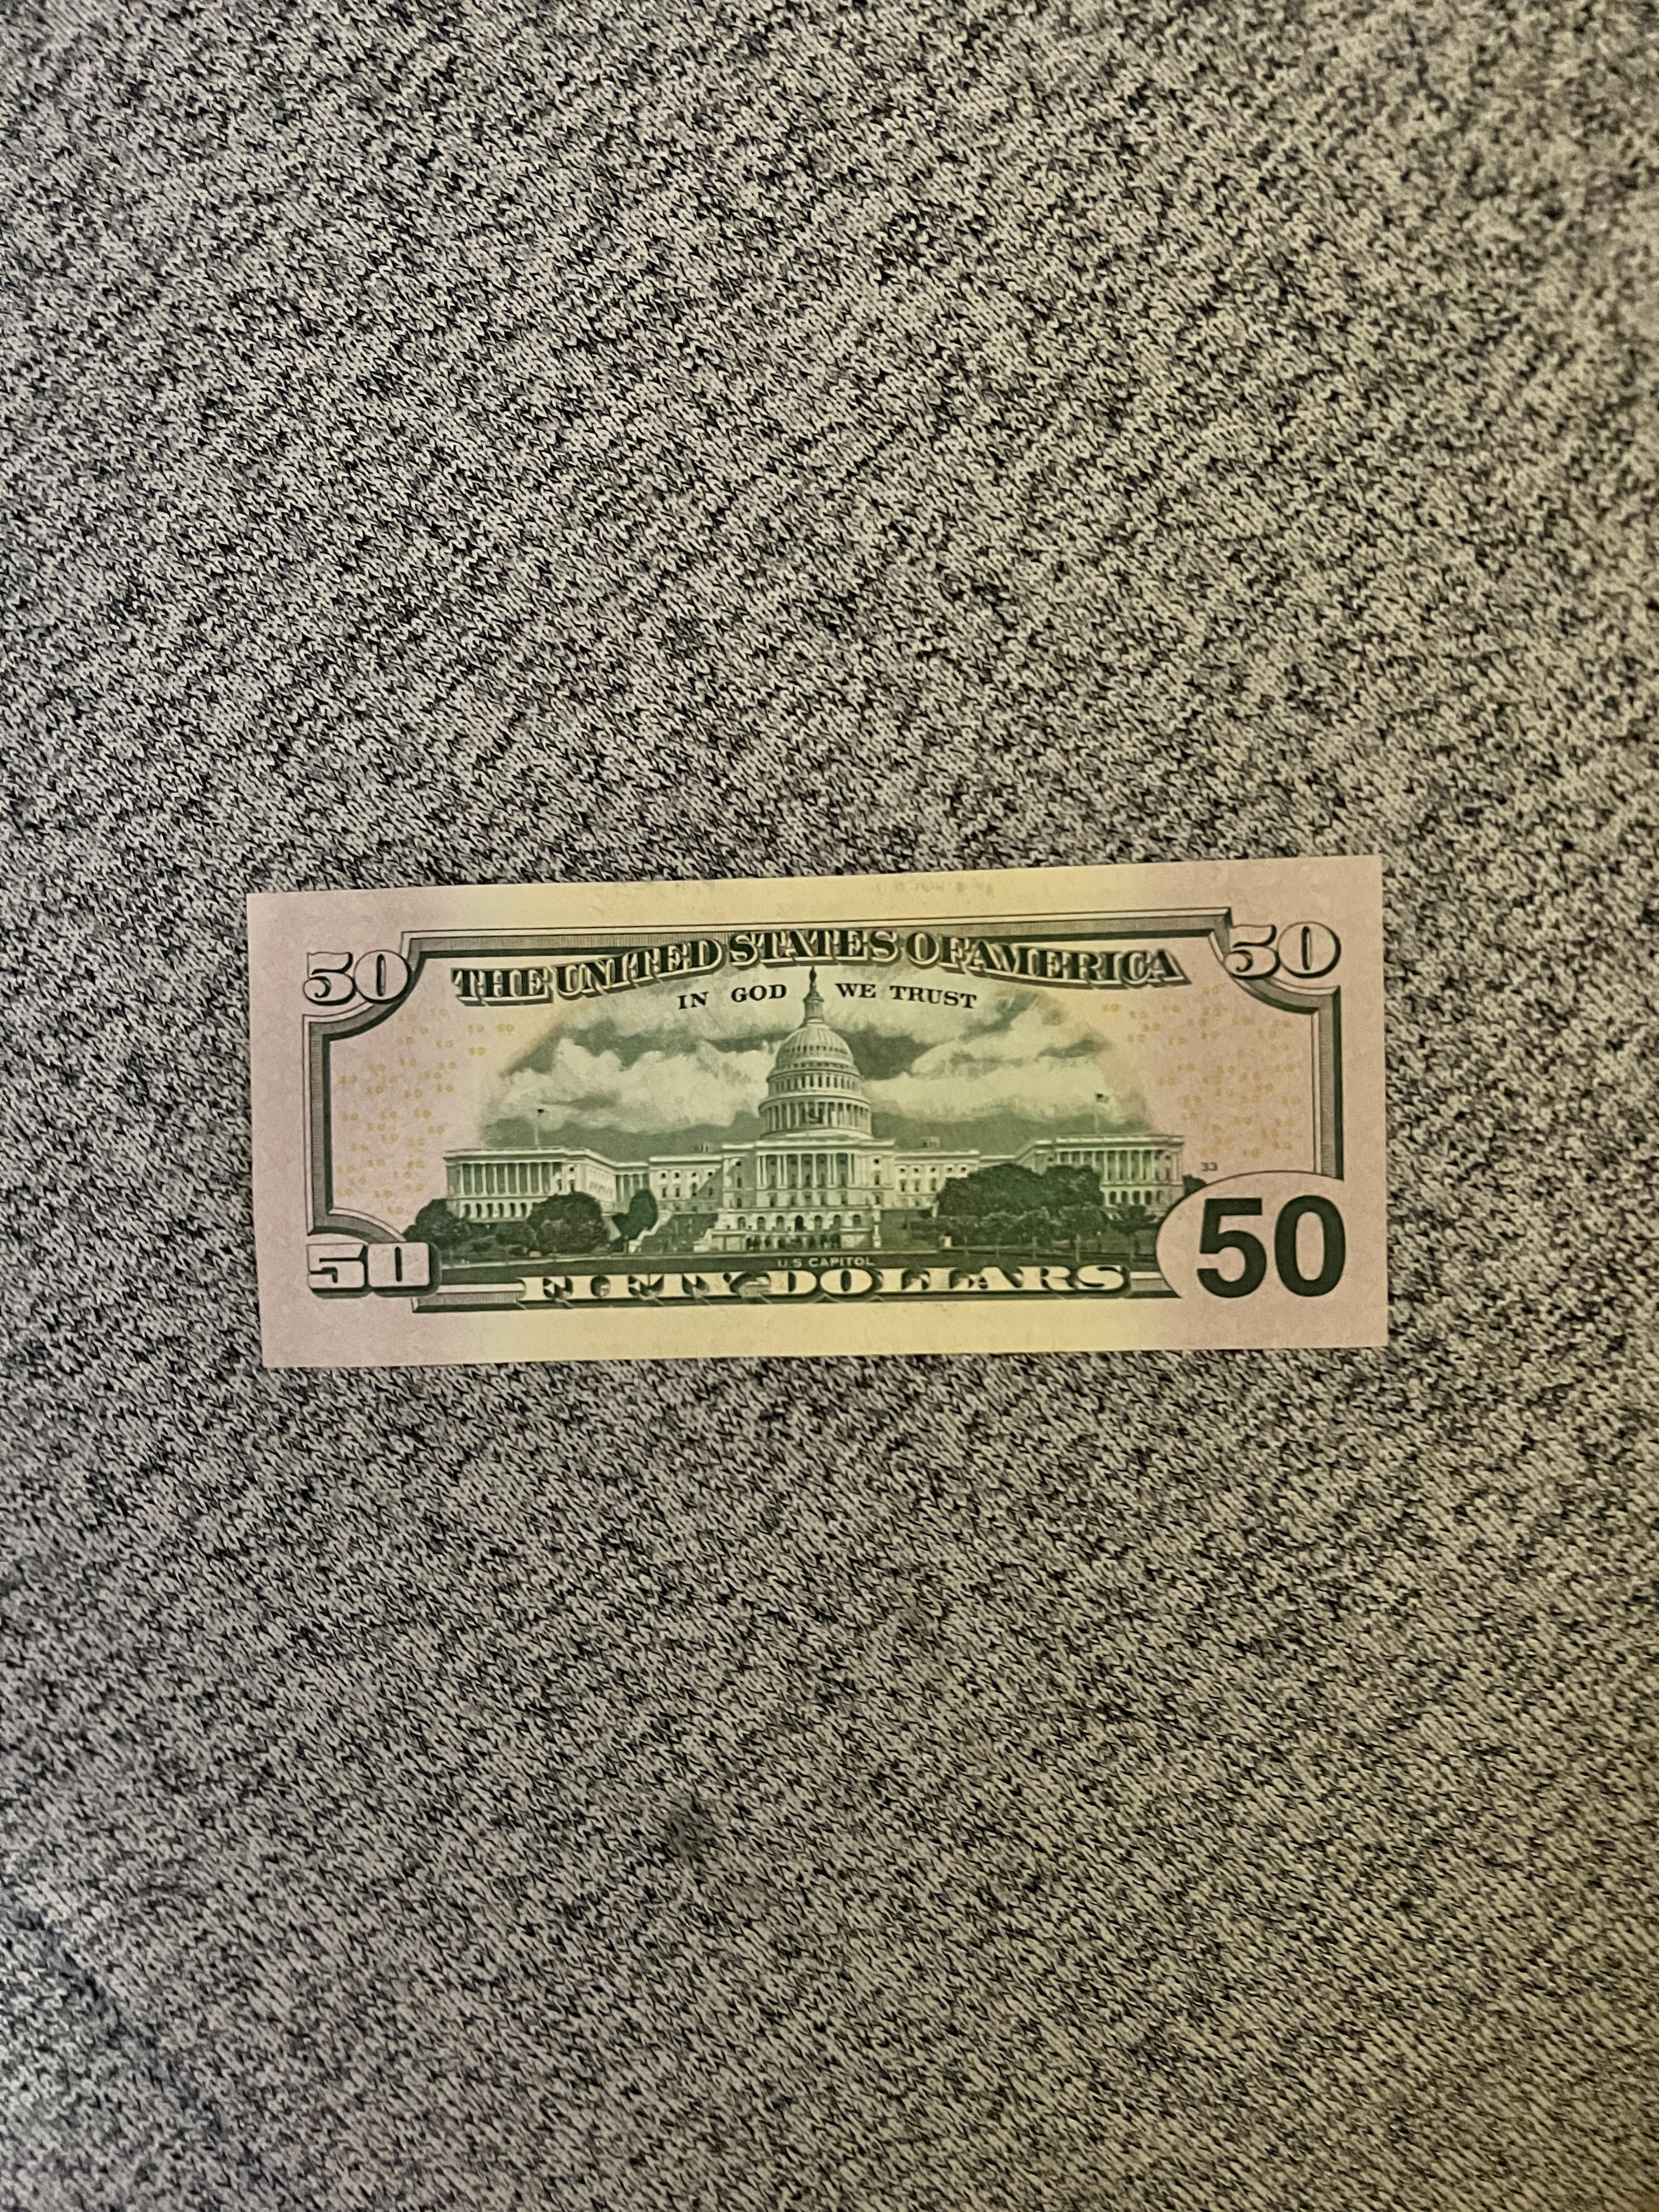FiftyBill: (240, 850, 1405, 1364)
